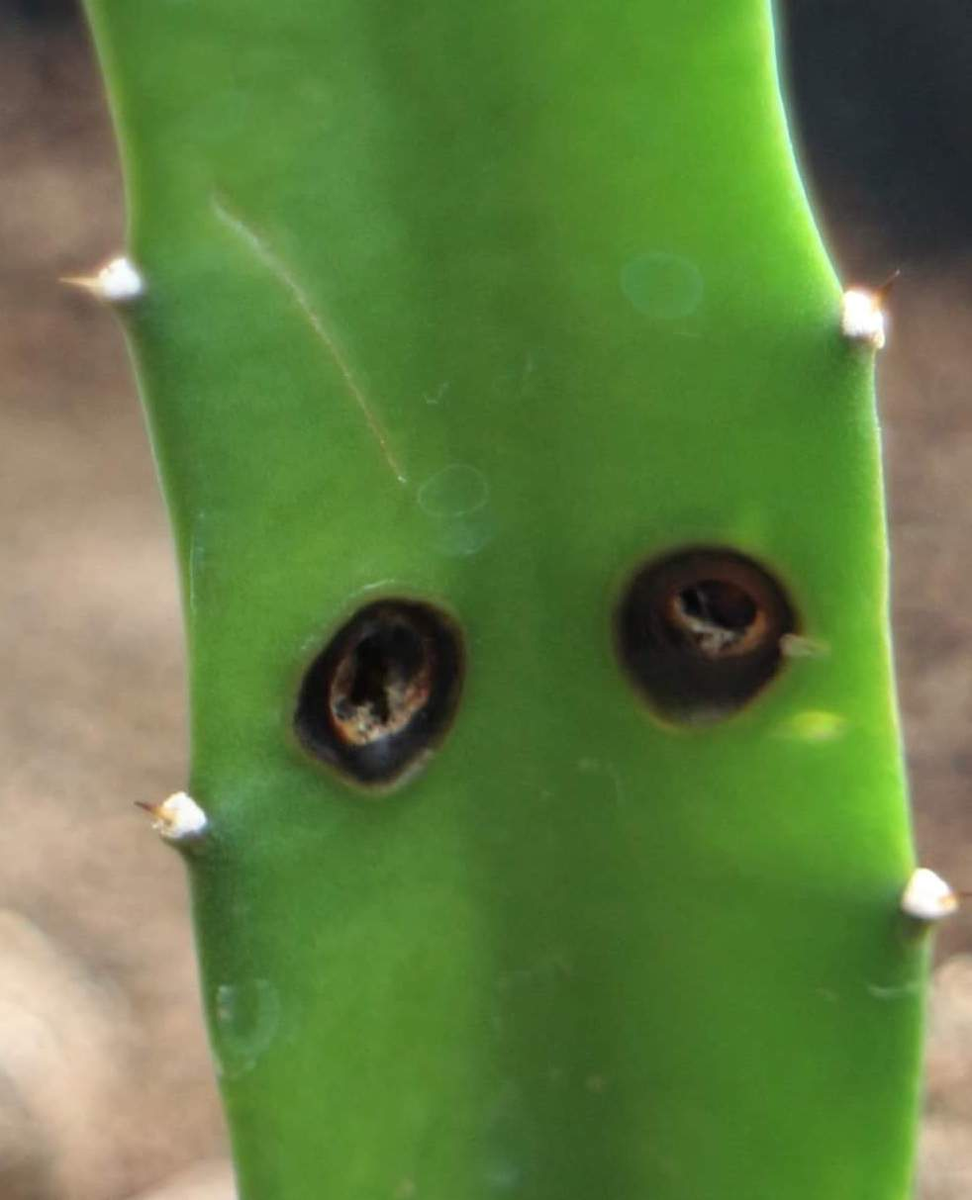stemcanker: (603, 529, 813, 740), (287, 586, 478, 804)
